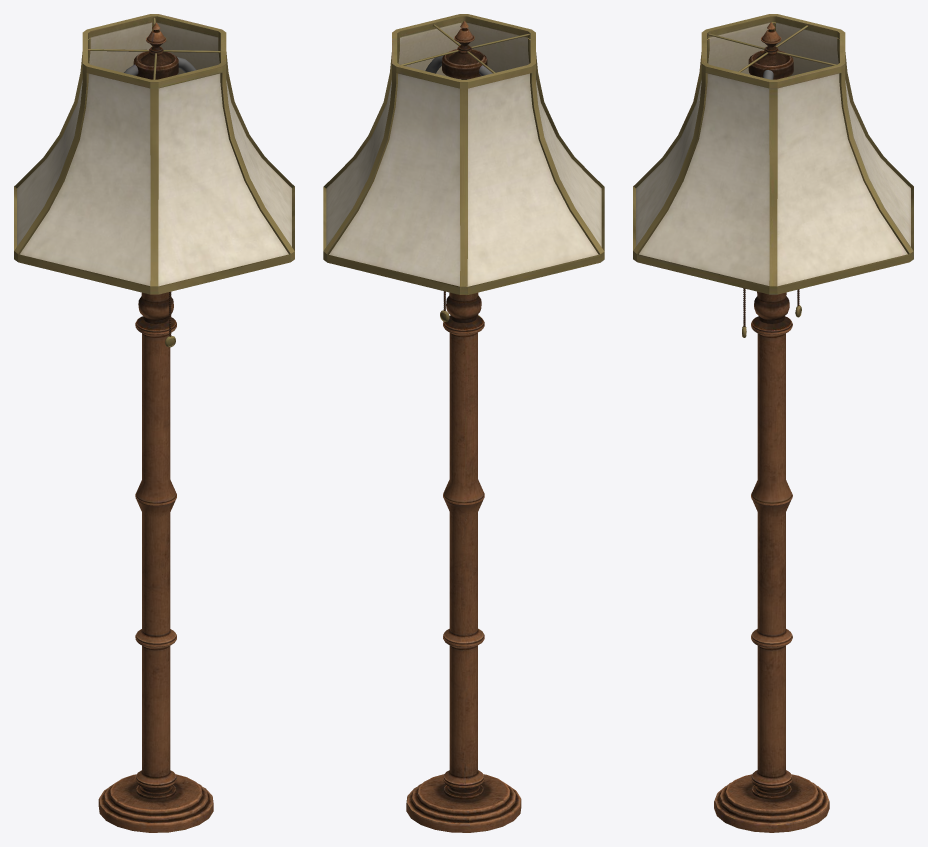
3 views of the same model, side by side, from view 1: azimuth 30°, elevation 25°; view 2: azimuth 150°, elevation 25°; view 3: azimuth 270°, elevation 25° (orthographic).
Visible parts, largest first — view 1: LampShade_LP, Rod_LP, MainSupport_LP; view 2: LampShade_LP, Rod_LP, MainSupport_LP; view 3: LampShade_LP, Rod_LP, MainSupport_LP.
Part boxes in pixels (x1,y1,x2,y2): LampShade_LP: (14, 14, 294, 294); Rod_LP: (98, 292, 213, 832); MainSupport_LP: (124, 22, 196, 79); LampShade_LP: (323, 14, 604, 294); Rod_LP: (406, 292, 521, 832); MainSupport_LP: (425, 21, 492, 79); LampShade_LP: (633, 14, 913, 294); Rod_LP: (714, 291, 829, 832); MainSupport_LP: (748, 22, 793, 79).
Size of the model in its own units: 55.09 by 149 by 48.36.
1 material, 1 textured.
